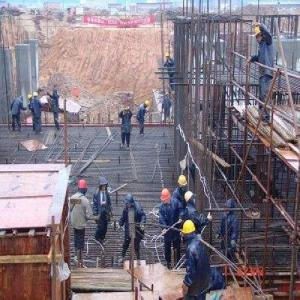blue: (98, 178, 109, 193), (126, 195, 136, 210), (225, 200, 234, 216)
red: (78, 180, 88, 197)
white: (185, 190, 197, 207)
yellow: (184, 220, 198, 244), (161, 189, 173, 207), (255, 25, 265, 45), (179, 175, 188, 192), (145, 102, 151, 111)
